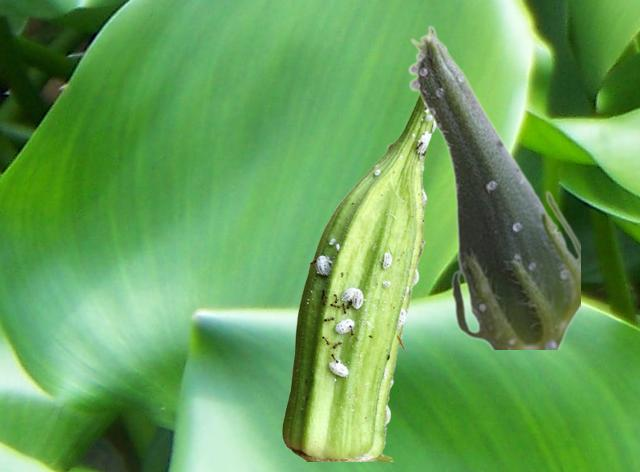okra: (282, 93, 435, 460), (407, 25, 579, 348)
